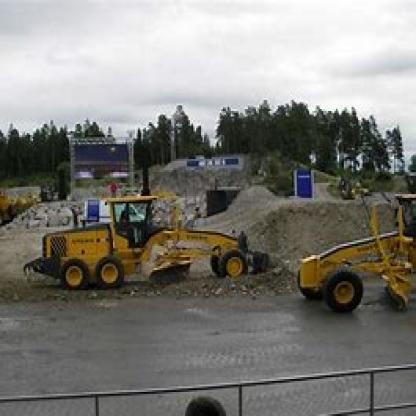bull_dozer/loader/grader: (22, 189, 273, 294)
